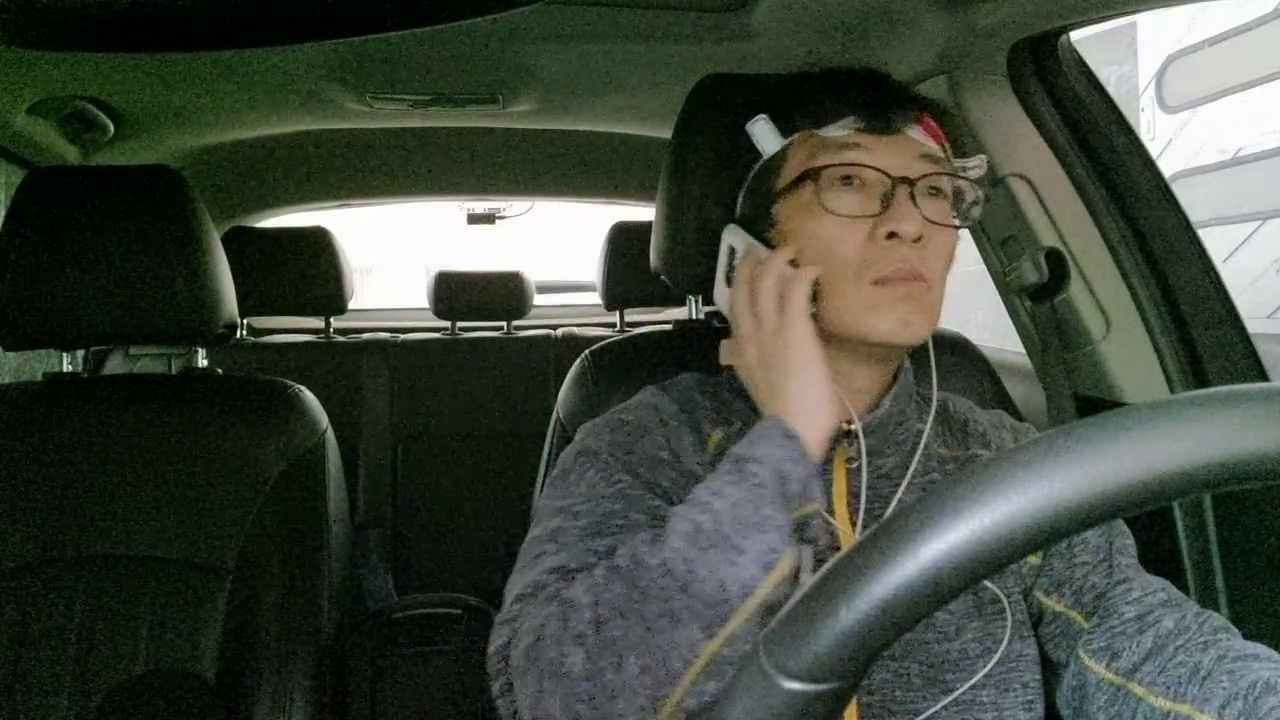phone: (684, 202, 841, 369)
